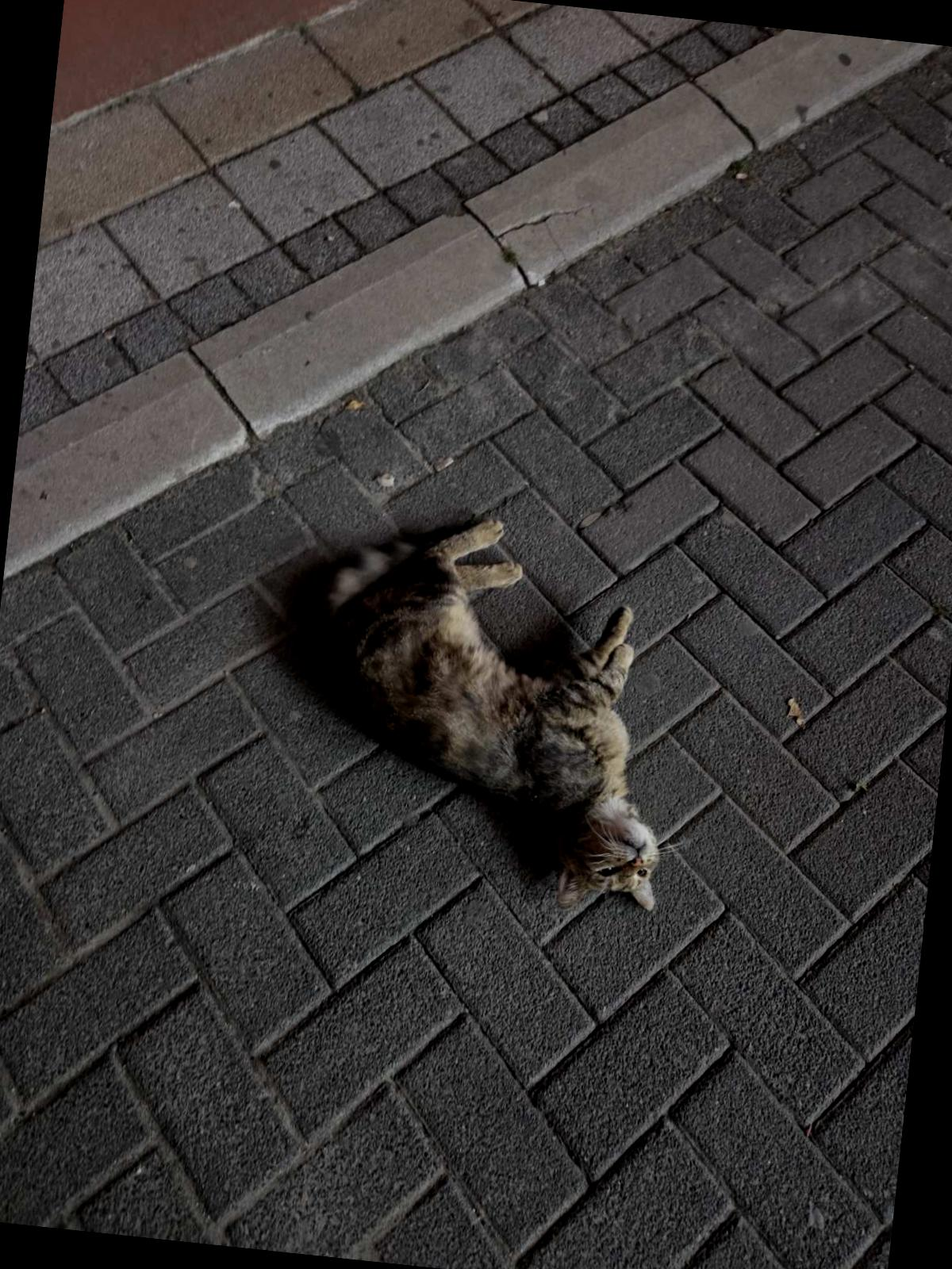macka: (291, 496, 699, 919)
